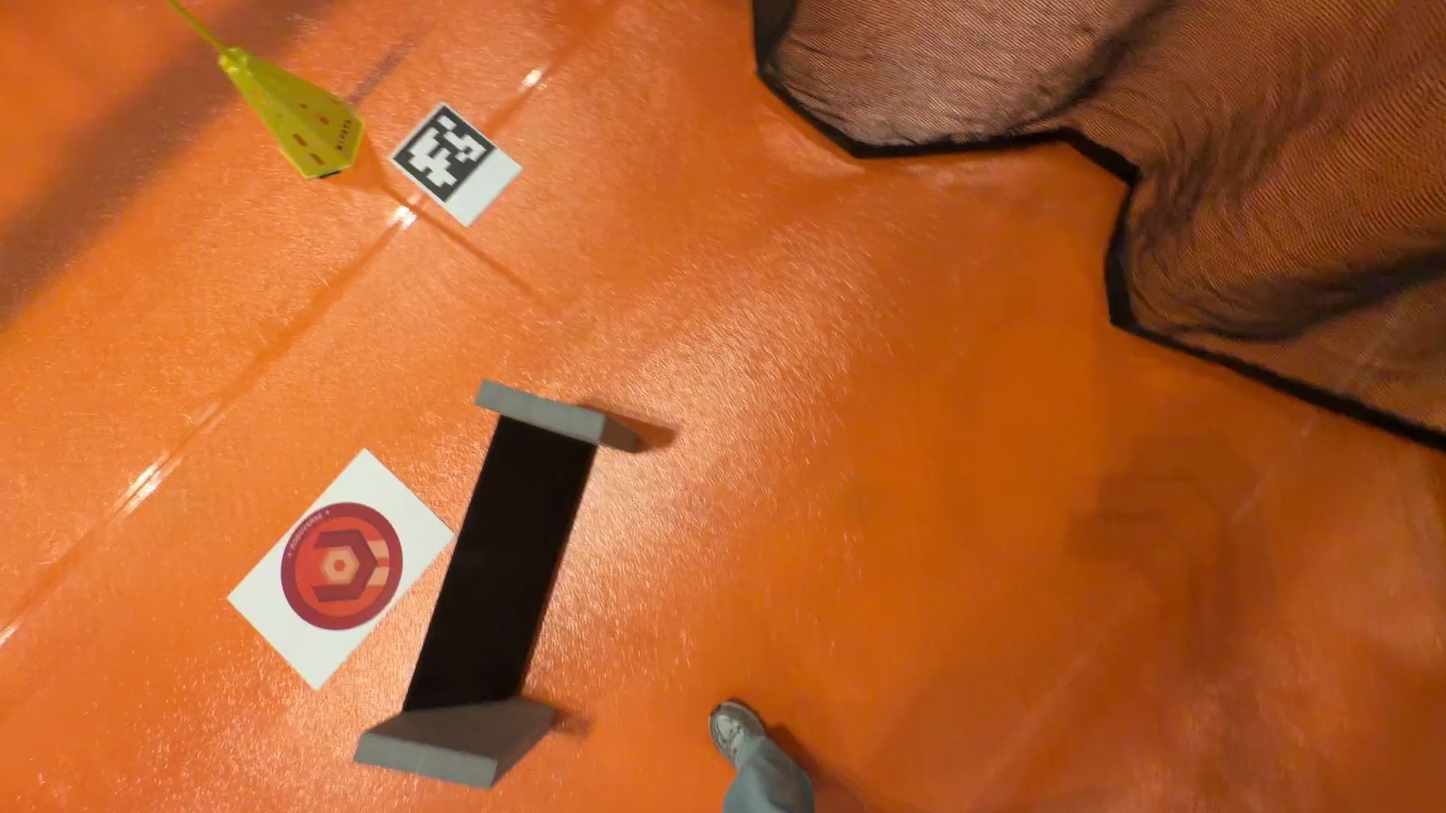landing_pad: (280, 502, 407, 631)
